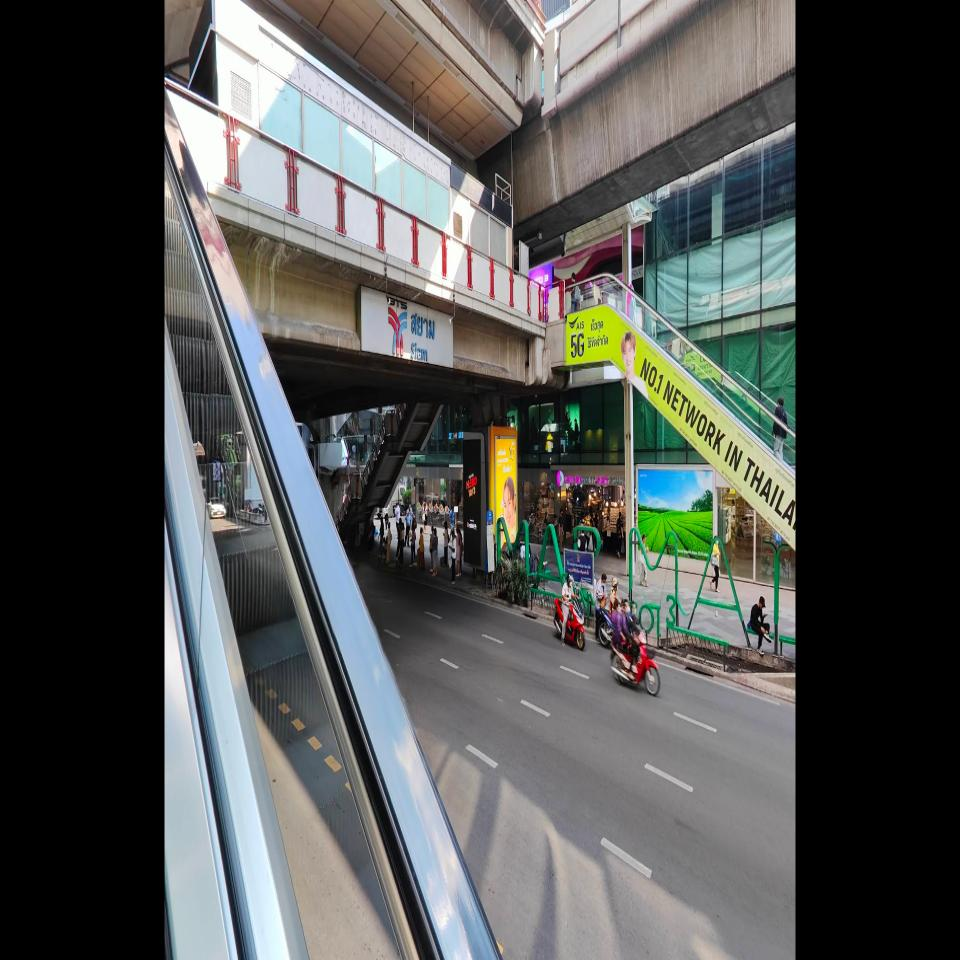Siam: (388, 296, 436, 363), (410, 312, 436, 364)
